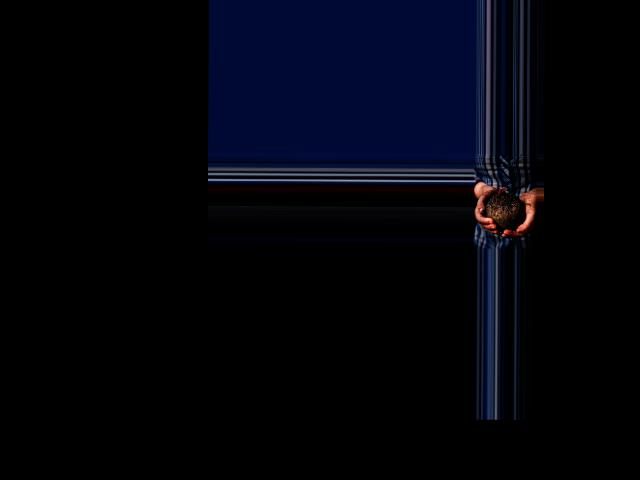beet: (486, 186, 525, 230)
